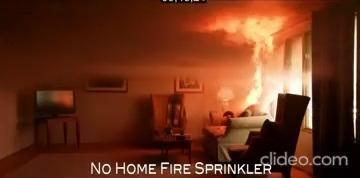fire: (205, 14, 285, 45), (244, 45, 264, 104)
